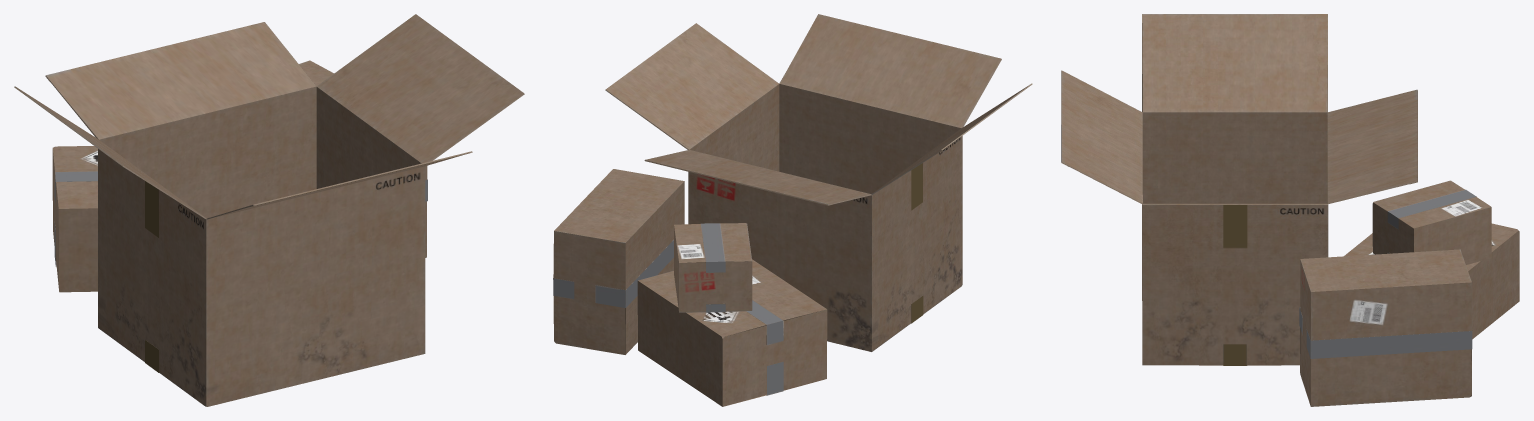
File: Cardboard_Boxes.glb
3 views of the same model, side by side, from view 1: azimuth 30°, elevation 25°; view 2: azimuth 150°, elevation 25°; view 3: azimuth 270°, elevation 25° (orthographic). The views are drawn at different scales.
Visible parts, largest first — view 1: Cardboard Boxes; view 2: Cardboard Boxes; view 3: Cardboard Boxes.
Part boxes in pixels (bbox=[...]): Cardboard Boxes: bbox=[14, 14, 524, 406]; Cardboard Boxes: bbox=[553, 14, 1032, 406]; Cardboard Boxes: bbox=[1061, 14, 1519, 406].
Bounding box in the file's own units: 0.7804 × 0.4858 × 0.8951.
1 material, 1 textured.
